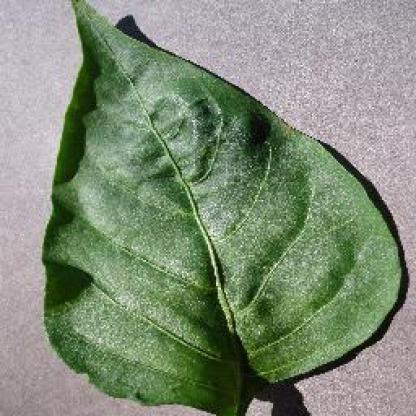good leaf: (37, 6, 402, 400)
